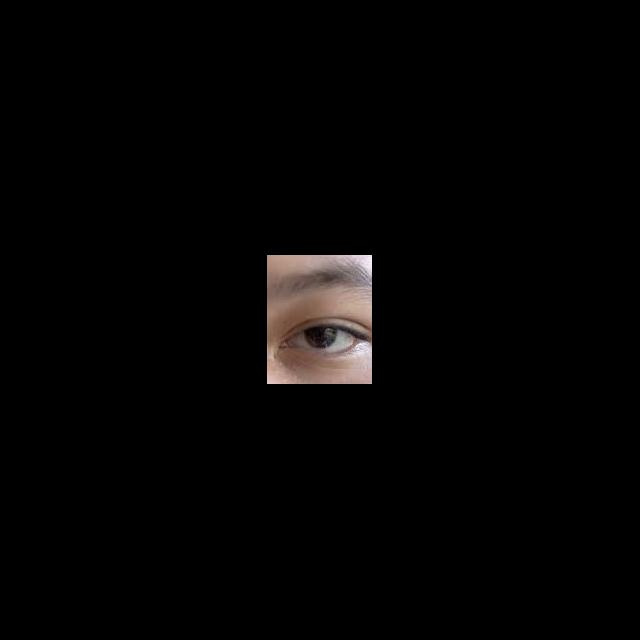eye: (291, 326, 357, 354)
iris: (304, 328, 338, 349)
